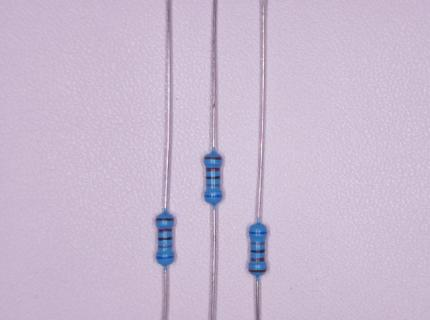Black band: (250, 249, 265, 253), (158, 237, 172, 241), (206, 176, 220, 179)
Blue band: (156, 255, 174, 260), (204, 195, 223, 197), (250, 232, 267, 234)
Brown band: (249, 269, 267, 273), (204, 157, 222, 160), (157, 218, 174, 221)
Grey band: (206, 184, 220, 187), (251, 242, 265, 245), (159, 245, 172, 248)
Red band: (158, 228, 172, 232), (206, 168, 220, 172), (251, 257, 264, 261)
